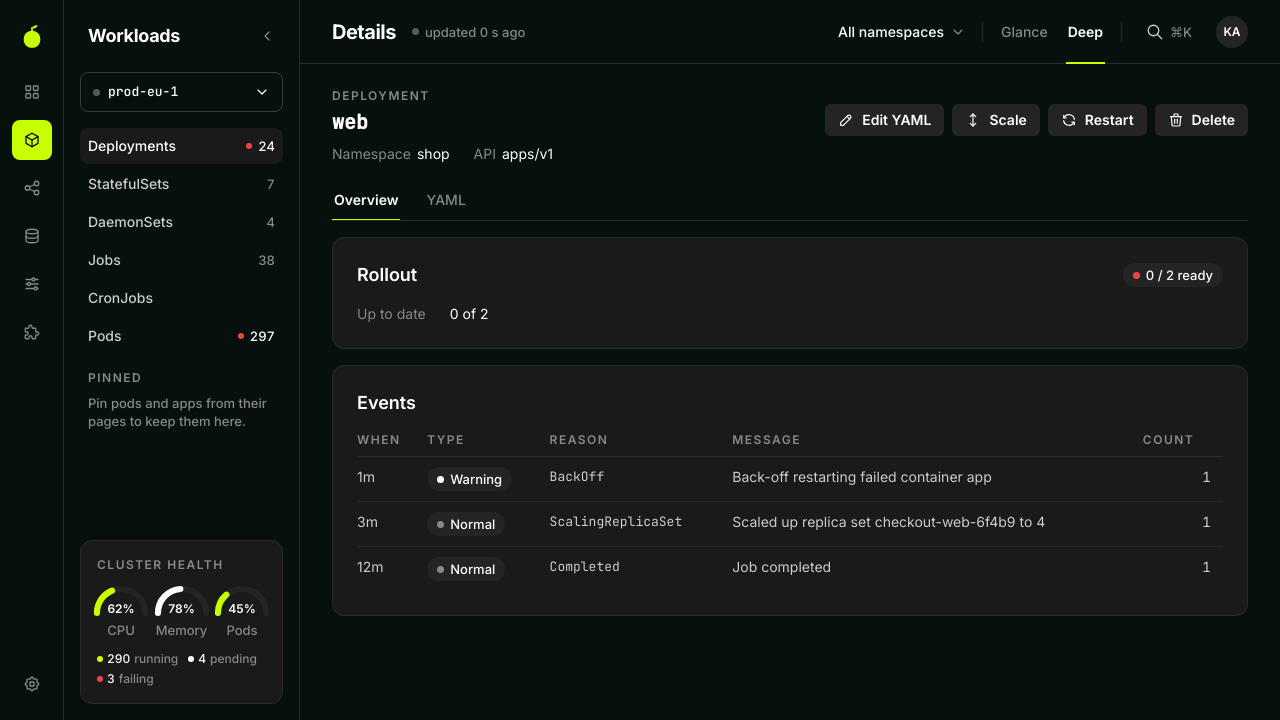
Scenario: resource actions › restarts after a confirmation
Click the button "Restart".
click(1097, 120)  # box [1048, 104, 1146, 136]
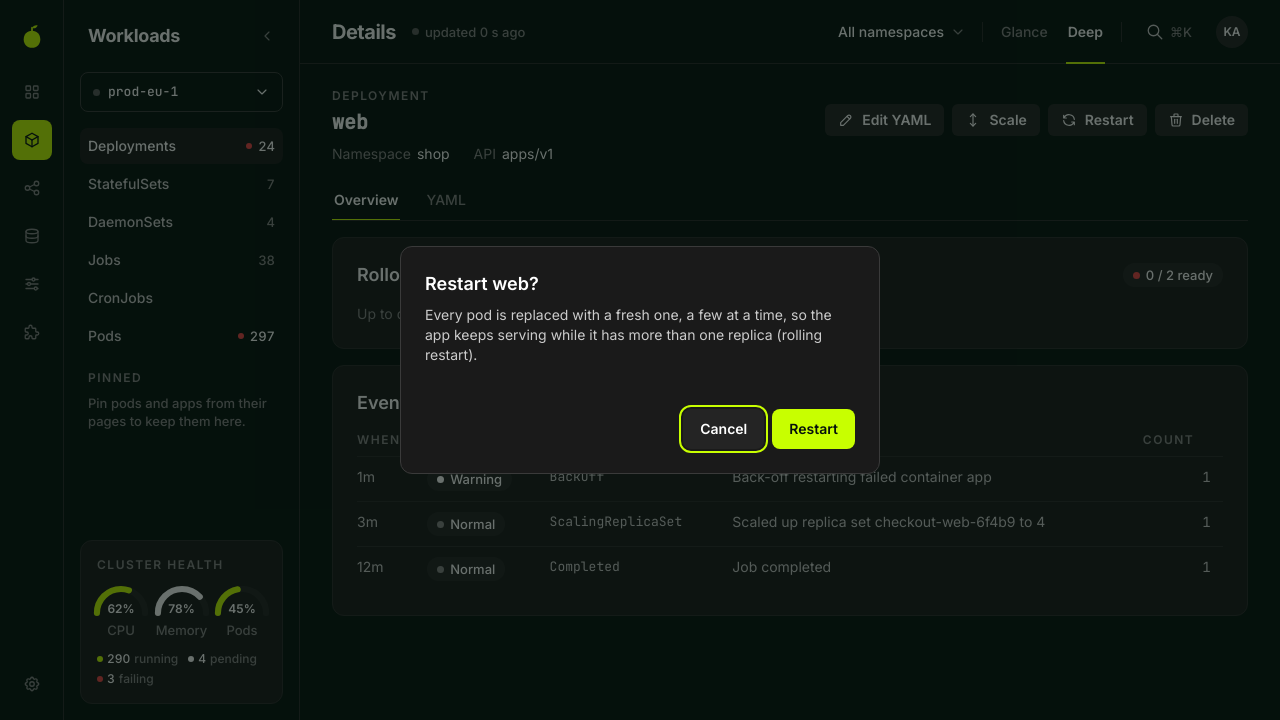
Click the button "Restart" below "Restart web?".
click(814, 429)  # box [772, 409, 855, 449]
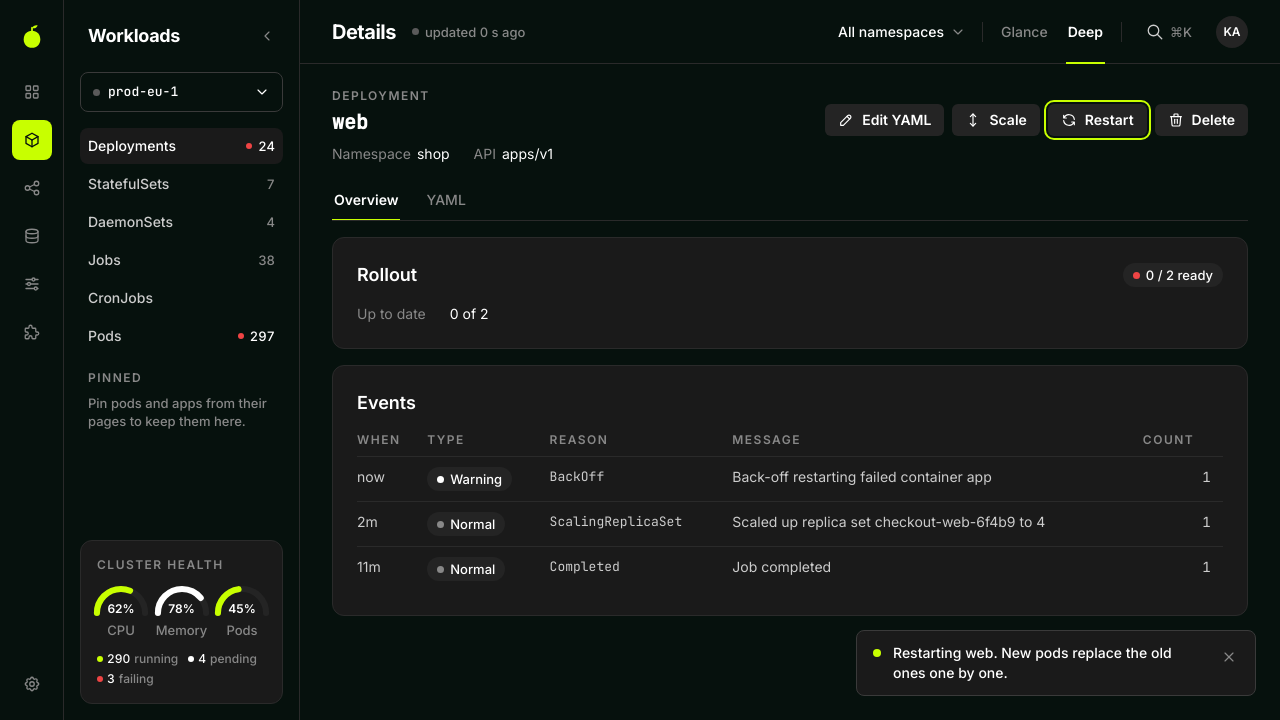
Expected: the text "Restarting web. New pods replace the old ones one by one." is shown, [893, 643, 1203, 683]
